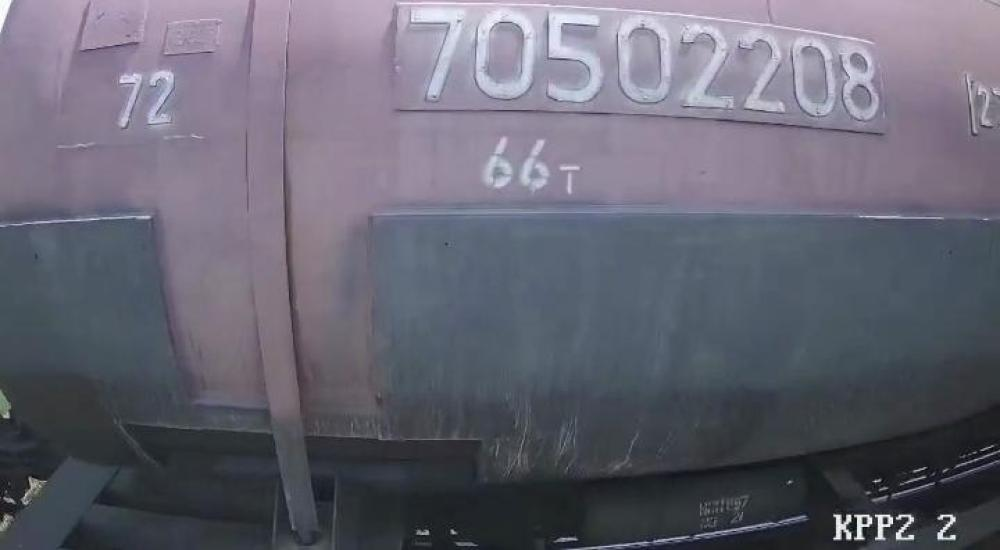Wagon-number: (404, 6, 883, 128)
